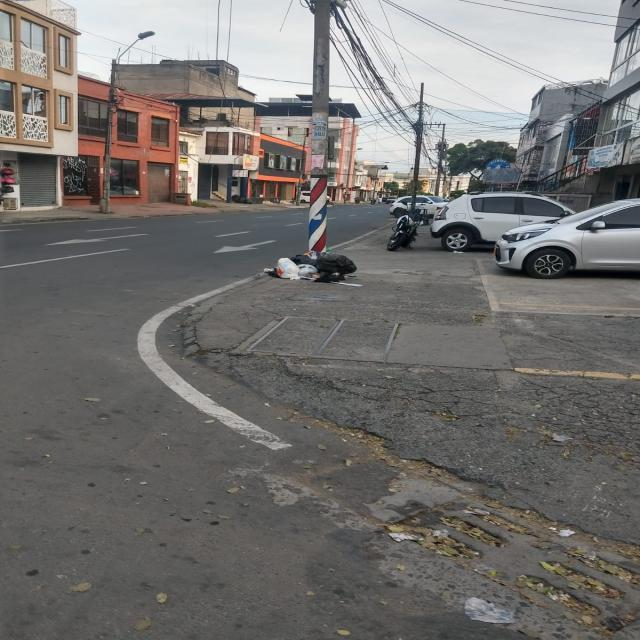Garbage_Bag: (317, 252, 358, 274), (276, 257, 300, 280), (296, 264, 318, 278)
